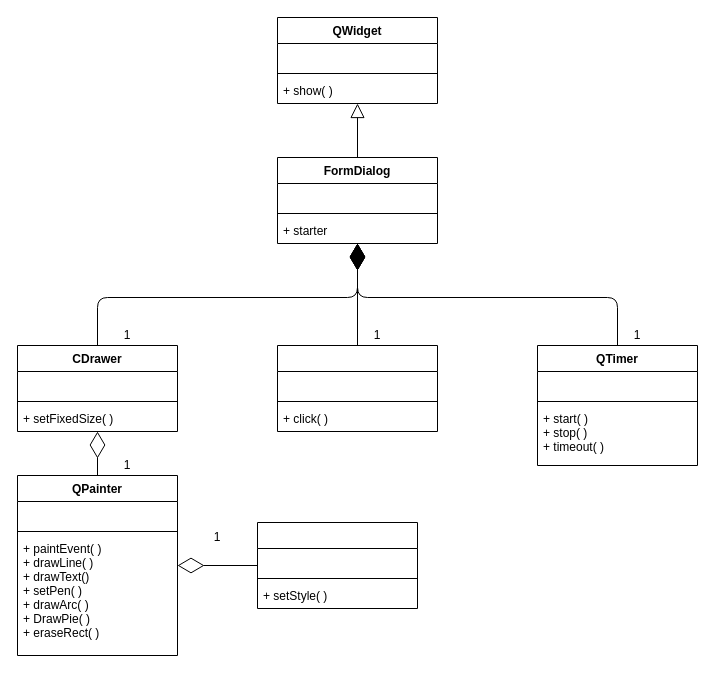
Image size: 715x676. Some labels were removed from this diagram. Here are the shapes that lost their labels. From the top down, the box of each, then its label:
(276, 344, 438, 432): QPushButton
(256, 522, 418, 608): QPen
